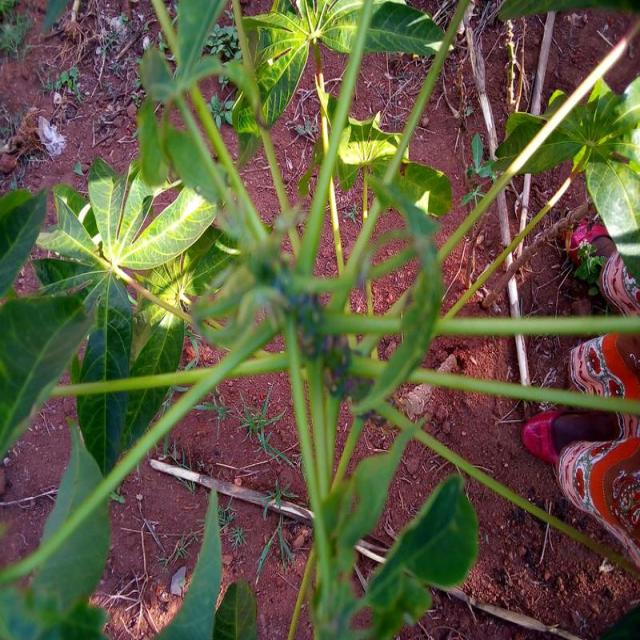cassava leaf: (364, 472, 481, 638)
